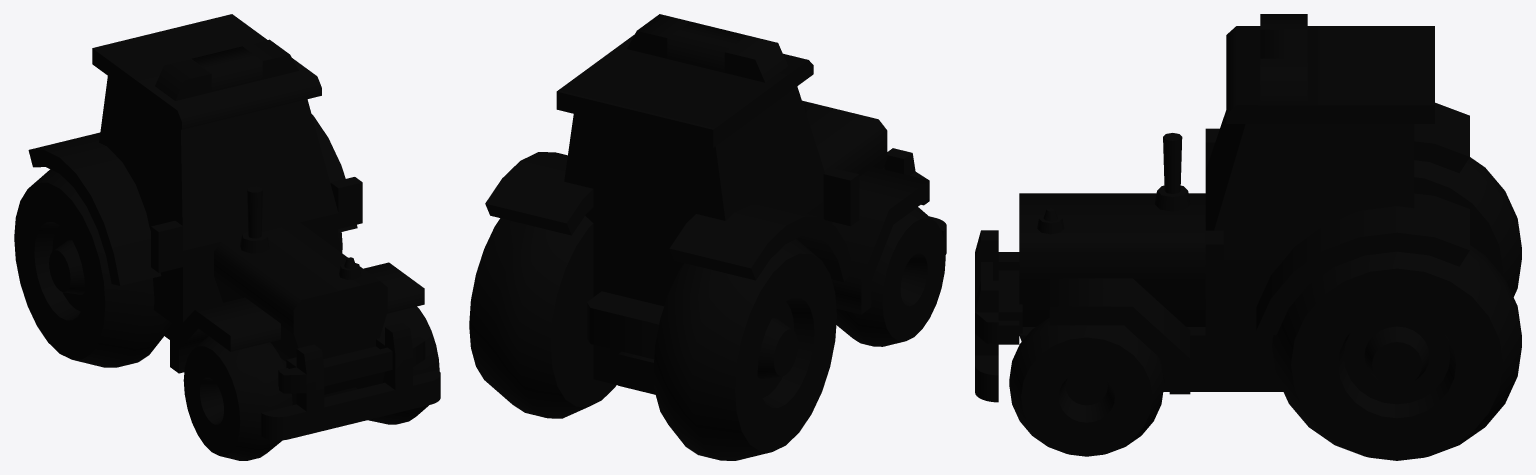
File: tractor-police.glb
3 views of the same model, side by side, from view 1: azimuth 30°, elevation 25°; view 2: azimuth 150°, elevation 25°; view 3: azimuth 270°, elevation 25° (orthographic). The views are drawn at different scales.
Visible parts, largest first — view 1: body, wheel-back-right, grill, wheel-front-right, wheel-front-left; view 2: body, wheel-back-right, wheel-back-left, wheel-front-right, grill; view 3: body, wheel-back-left, wheel-front-left, wheel-back-right, grill.
Part boxes in pixels (<box>): body: <box>28,14,424,404</box>; wheel-back-right: <box>14,169,171,367</box>; grill: <box>261,323,440,440</box>; wheel-front-right: <box>183,336,292,460</box>; wheel-front-left: <box>368,306,439,424</box>; body: <box>485,14,929,394</box>; wheel-back-right: <box>653,239,836,460</box>; wheel-back-left: <box>469,216,616,418</box>; wheel-front-right: <box>836,207,945,346</box>; grill: <box>883,148,946,254</box>; body: <box>998,14,1469,394</box>; wheel-back-left: <box>1272,245,1521,460</box>; wheel-front-left: <box>1009,318,1164,456</box>; wheel-back-right: <box>1414,157,1521,296</box>; grill: <box>975,230,1022,402</box>.
Bounding box in the file's own units: 1.34 × 1.7 × 2.3.
1 material, 1 textured.
